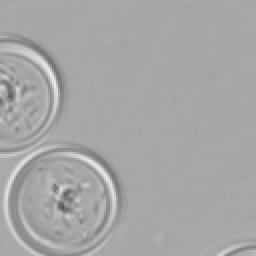picoshell: (2, 144, 118, 254), (0, 34, 60, 156), (214, 242, 254, 254)
